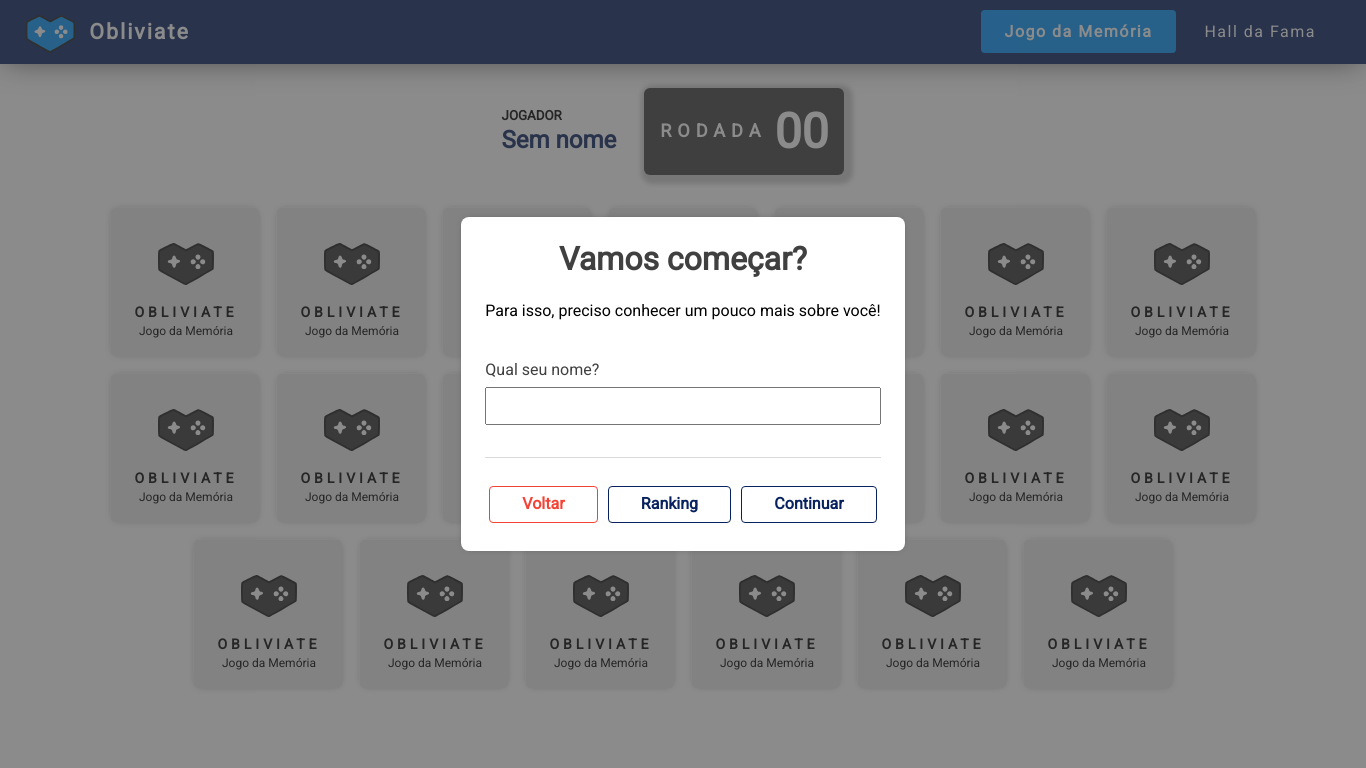
it: Oblivion - Memory Game › Start game inserting player name
The image size is (1366, 768).
Type "Victor Oliveira" into the field at (683, 406), box [485, 387, 880, 425]
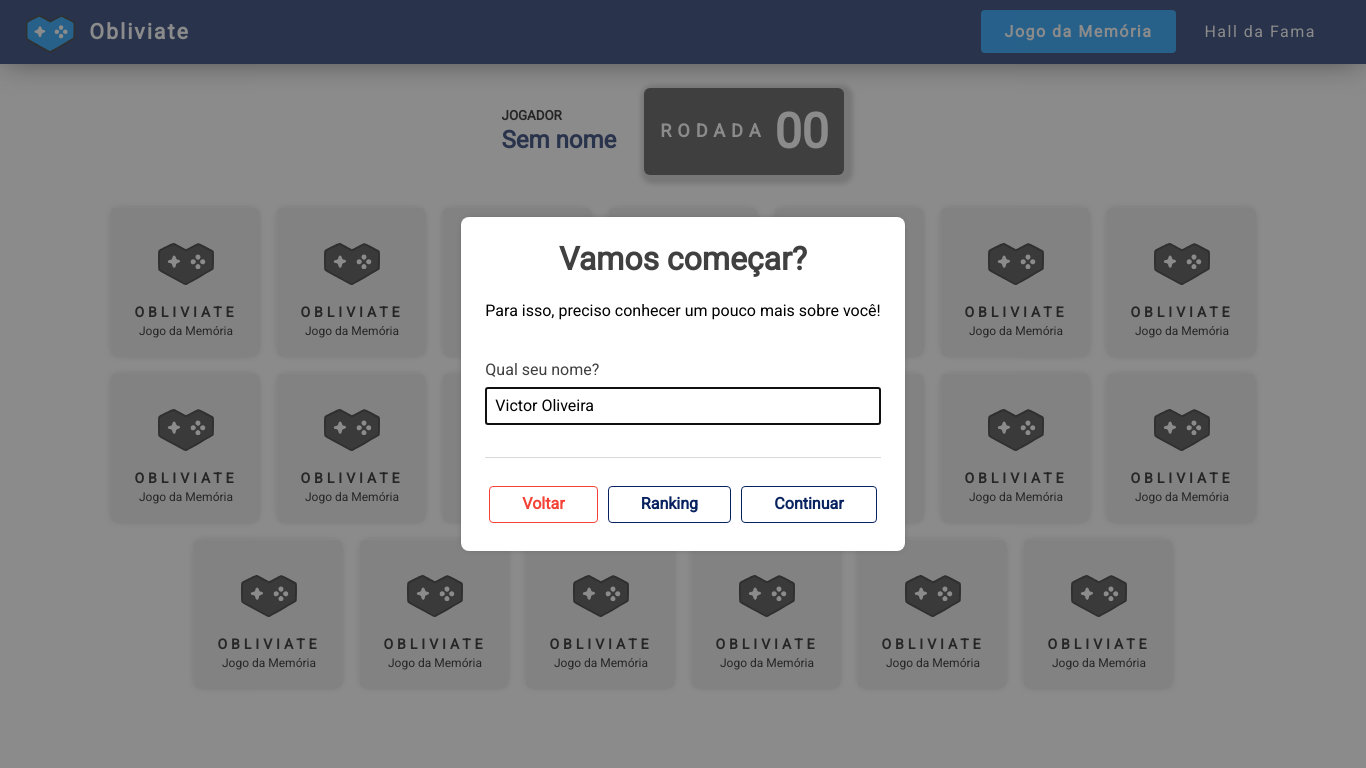
Click the button with id "game__start" at (809, 504), box [741, 486, 876, 522]
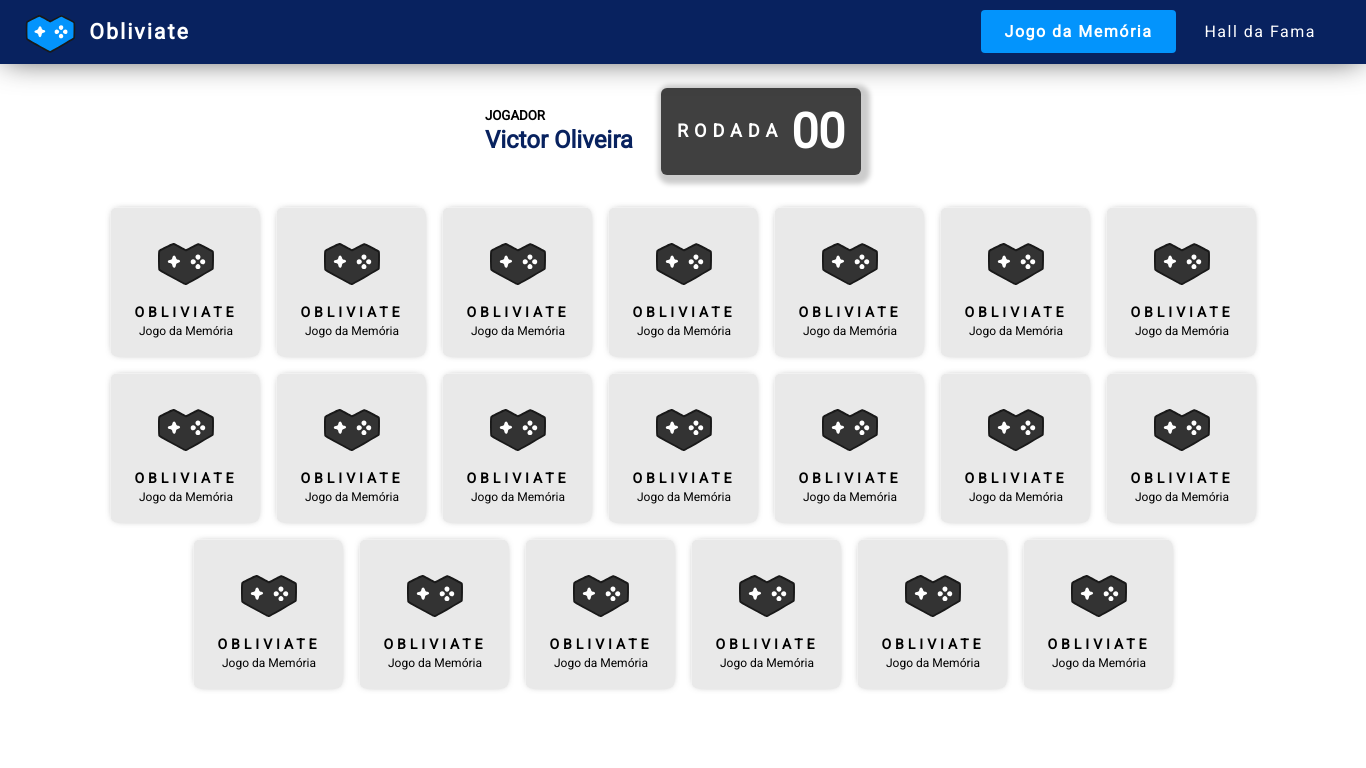
Expected: the heading "Victor Oliveira" is shown, [485, 127, 633, 155]
